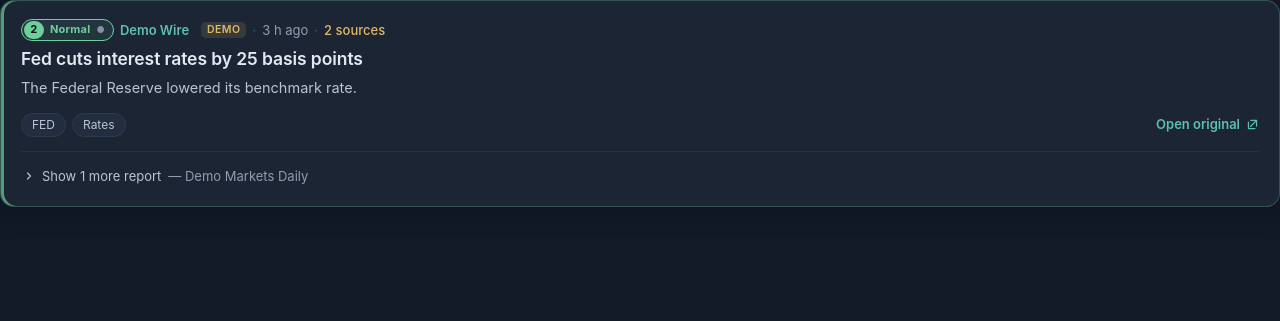
Test: StoryCard › shows attribution, categories, original link and collapsible sources
Later steps or results of the test are not shown.
Expected: the heading "Fed cuts interest rates by 25 basis points" is shown, [21,48,363,69]
Expected: the text "Demo Wire" is shown, [120,20,189,40]
Click the button "Show 1 more report — Demo Markets Daily" at [166, 176], box [21,162,310,190]
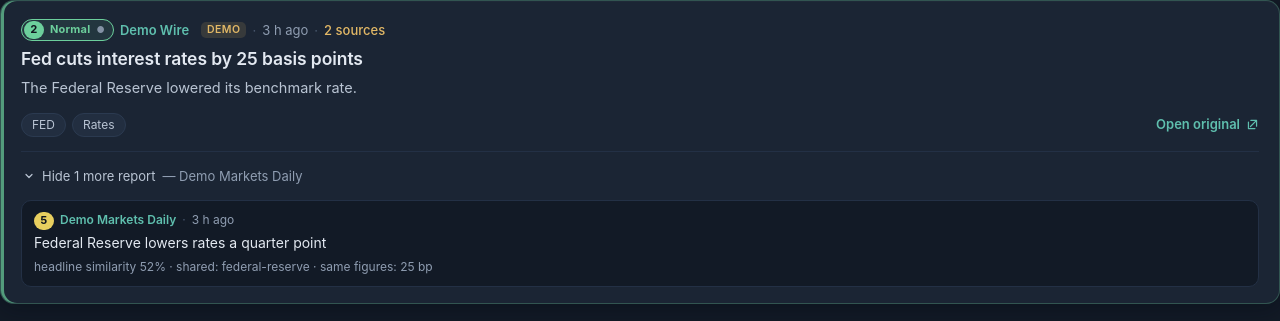
Expected: the text "headline similarity 52%" is shown, [34,259,433,274]
